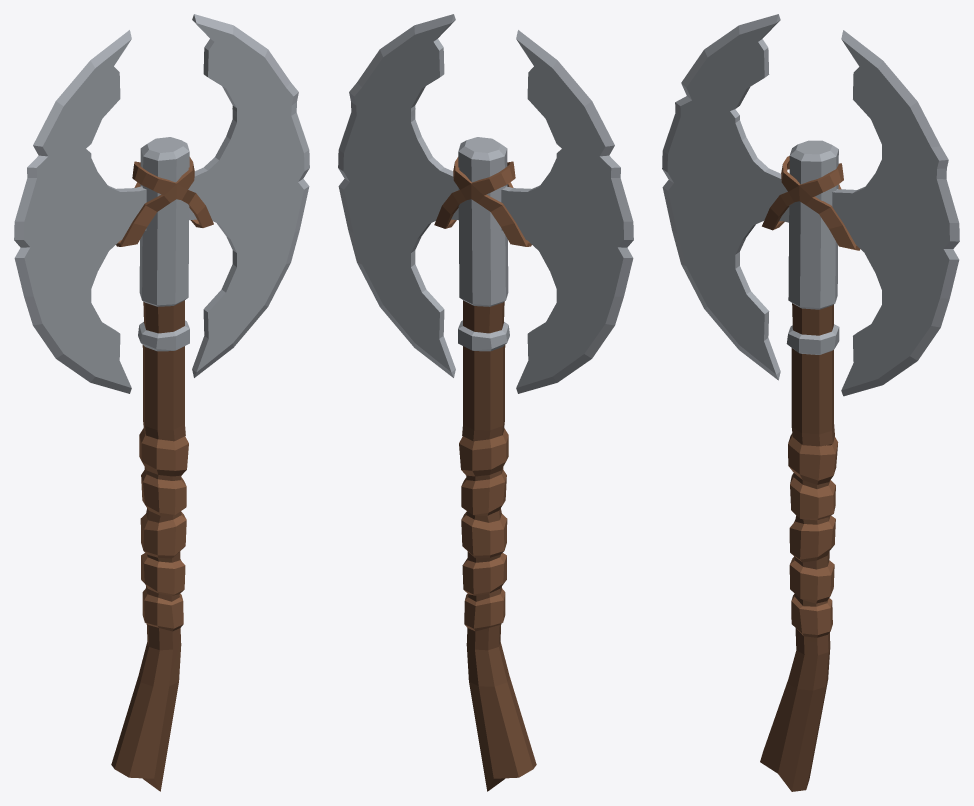
File: SM_Axe_Double_02.fbx
The picture shows the model from 3 angles, left to right: view 1: azimuth 30°, elevation 25°; view 2: azimuth 150°, elevation 25°; view 3: azimuth 330°, elevation 25°; orthographic projection.
Parts seen in each view (by area): view 1: SM_Axe_Double_02; view 2: SM_Axe_Double_02; view 3: SM_Axe_Double_02.
Boxes of the visible parts, x1=… form: SM_Axe_Double_02: x1=14, y1=14, x2=309, y2=791; SM_Axe_Double_02: x1=338, y1=14, x2=633, y2=791; SM_Axe_Double_02: x1=662, y1=14, x2=959, y2=791.
Size of the model in its own units: 87.12 by 215 by 13.55.
